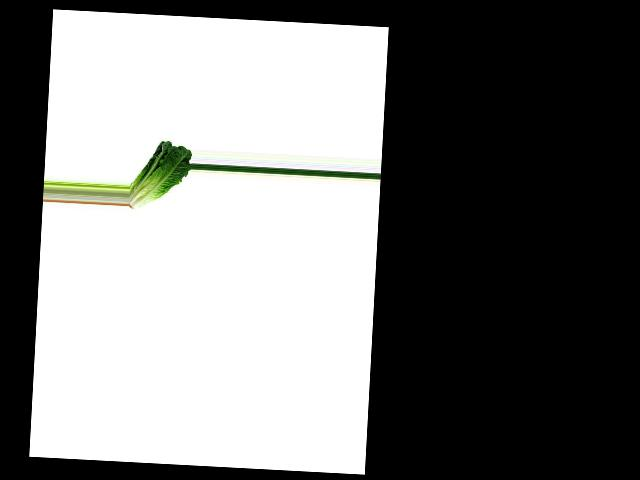lettuce: (128, 138, 192, 212)
